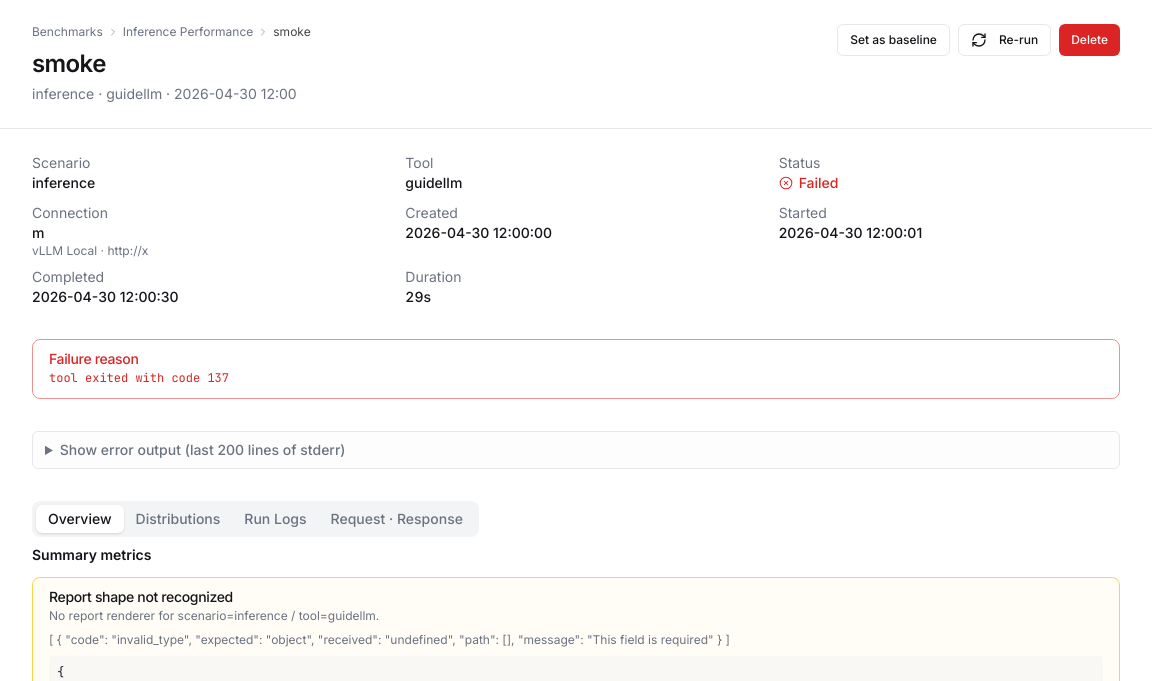
BenchmarkDetailPage › renders empty-state copy when status=failed but stderr is empty
The image size is (1152, 681).
Step 1. Click the heading "Show error output (last 200 lines of stderr)" → (203, 450), box x1=60 y1=441 x2=346 y2=458
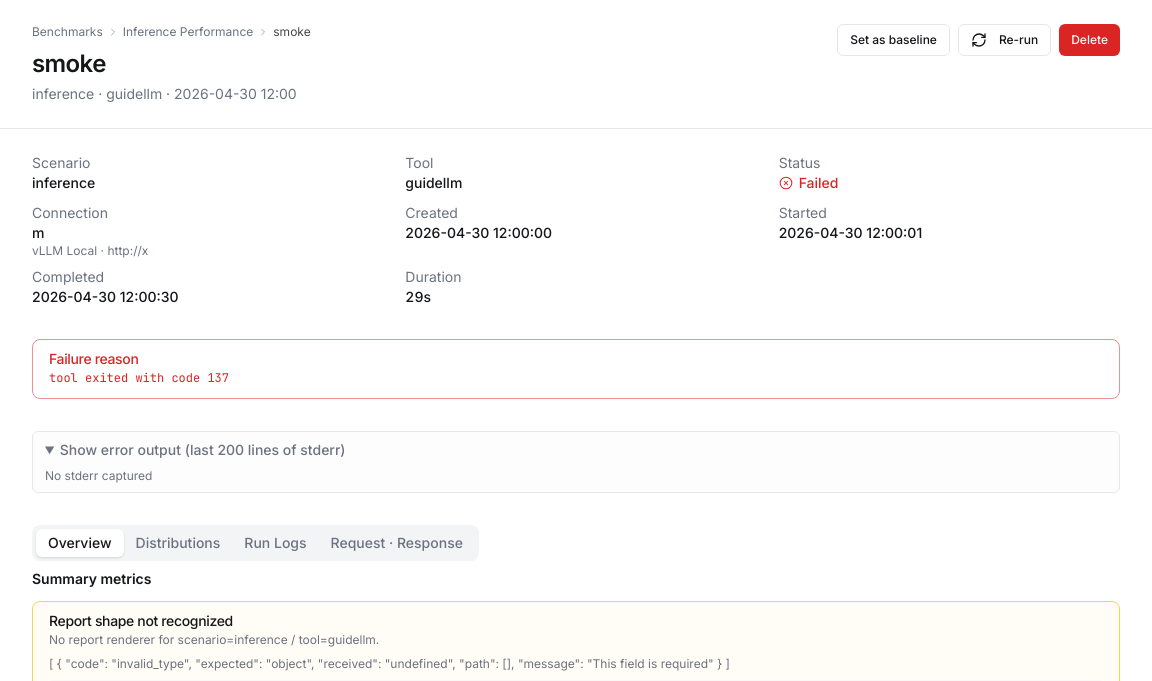
Expected: the text "No stderr captured" is shown, x1=45 y1=468 x2=152 y2=483
